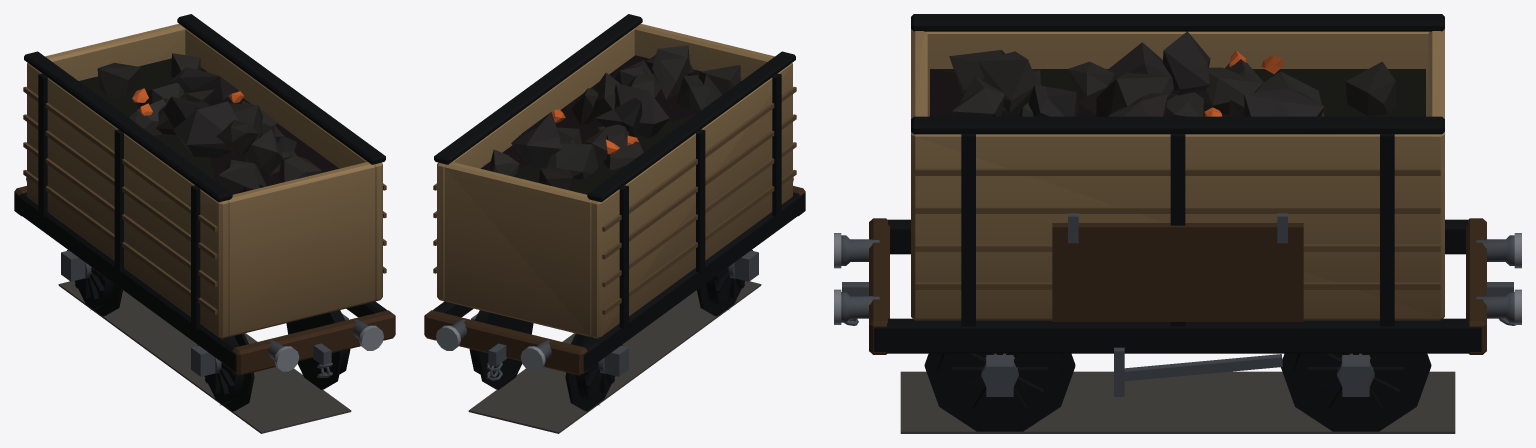
File: open-coal-wagon.glb
3 renders of one model, left to right at view 1: azimuth 30°, elevation 25°; view 2: azimuth 150°, elevation 25°; view 3: azimuth 270°, elevation 25°, orthographic. The views are drawn at different scales.
Visible parts, largest first — view 1: open_coal_wagon; view 2: open_coal_wagon; view 3: open_coal_wagon.
Part boxes in pixels (x1=…): open_coal_wagon: x1=14, y1=14, x2=395, y2=433; open_coal_wagon: x1=424, y1=14, x2=805, y2=433; open_coal_wagon: x1=834, y1=14, x2=1521, y2=433.
Size of the model in its own units: 1.35 by 1.86 by 3.29.
